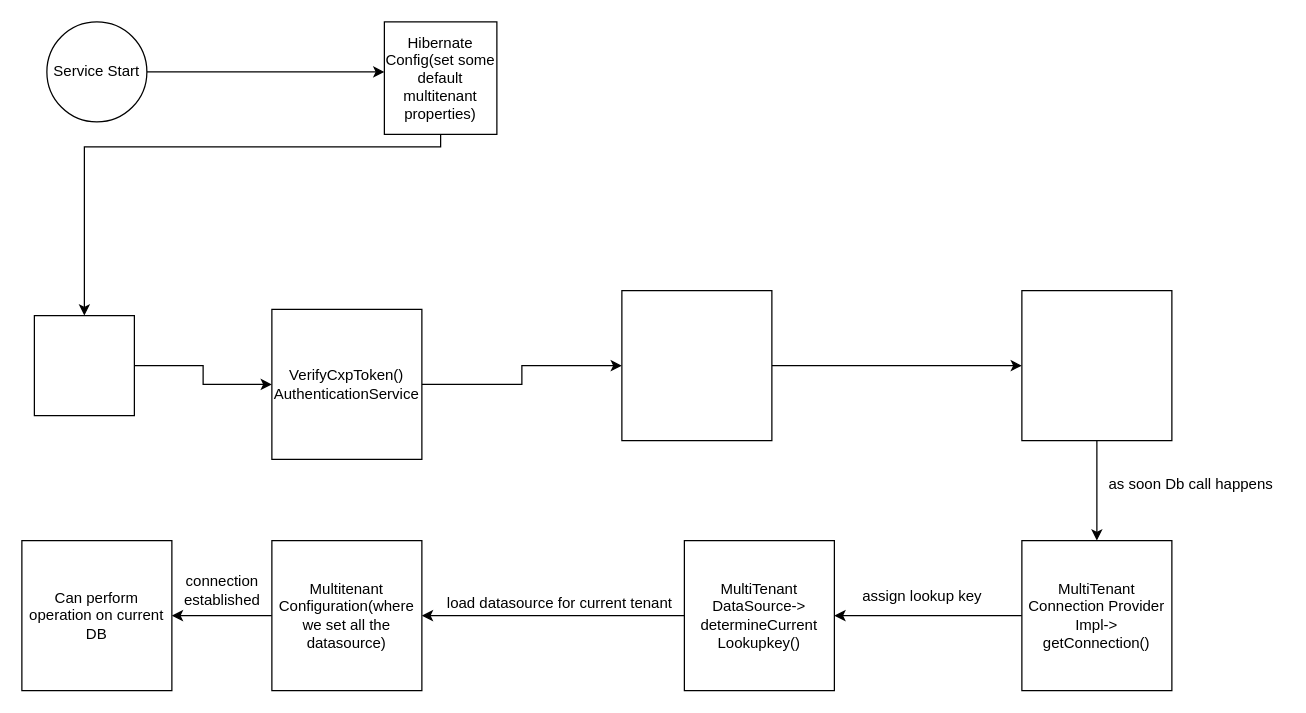
Some shapes in this 1306 by 713 pixel diagram are drawn without their labels. The box of each missing label's shape, as (x1, y1, x2, y2) in pixels:
Api Request: (33, 314, 134, 416)
Current Tenant Identifier Resolver Impl: (621, 289, 772, 441)
Token Encryption Service(DB call): (1021, 289, 1172, 441)
